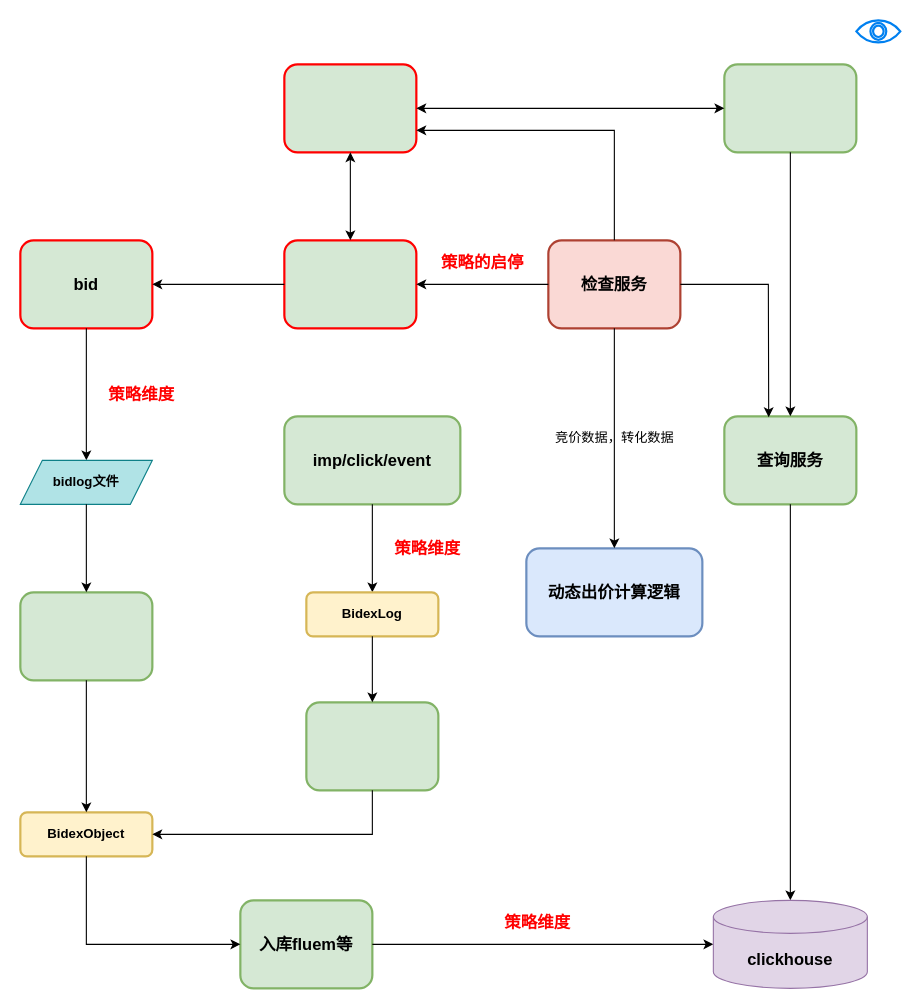
This 920x1008 diagram has some shape labels left out. Each missing label, with the box of its shape:
bidlog: (19, 591, 153, 681)
dispatch: (283, 239, 417, 329)
front_end: (723, 63, 857, 153)
mongo: (283, 63, 417, 153)
transfer: (305, 701, 439, 791)
